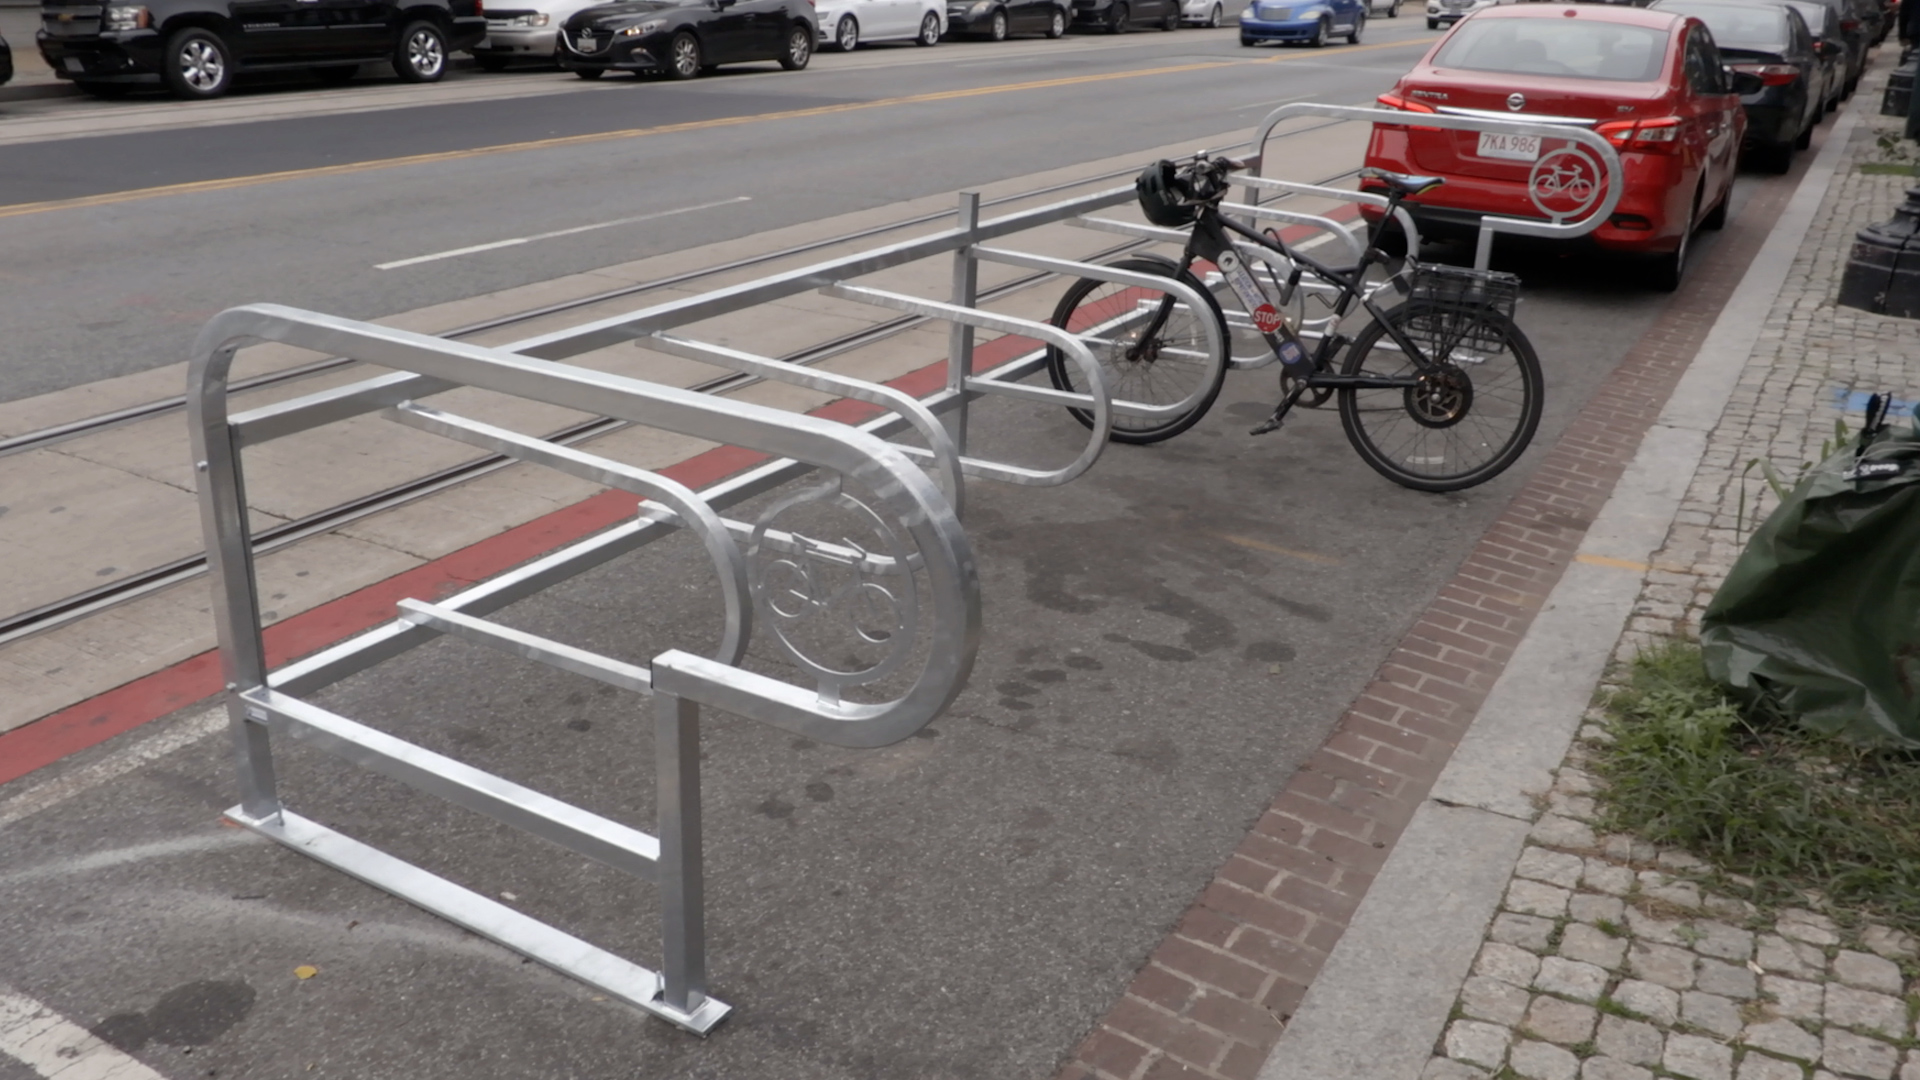bike: (1026, 131, 1619, 512)
